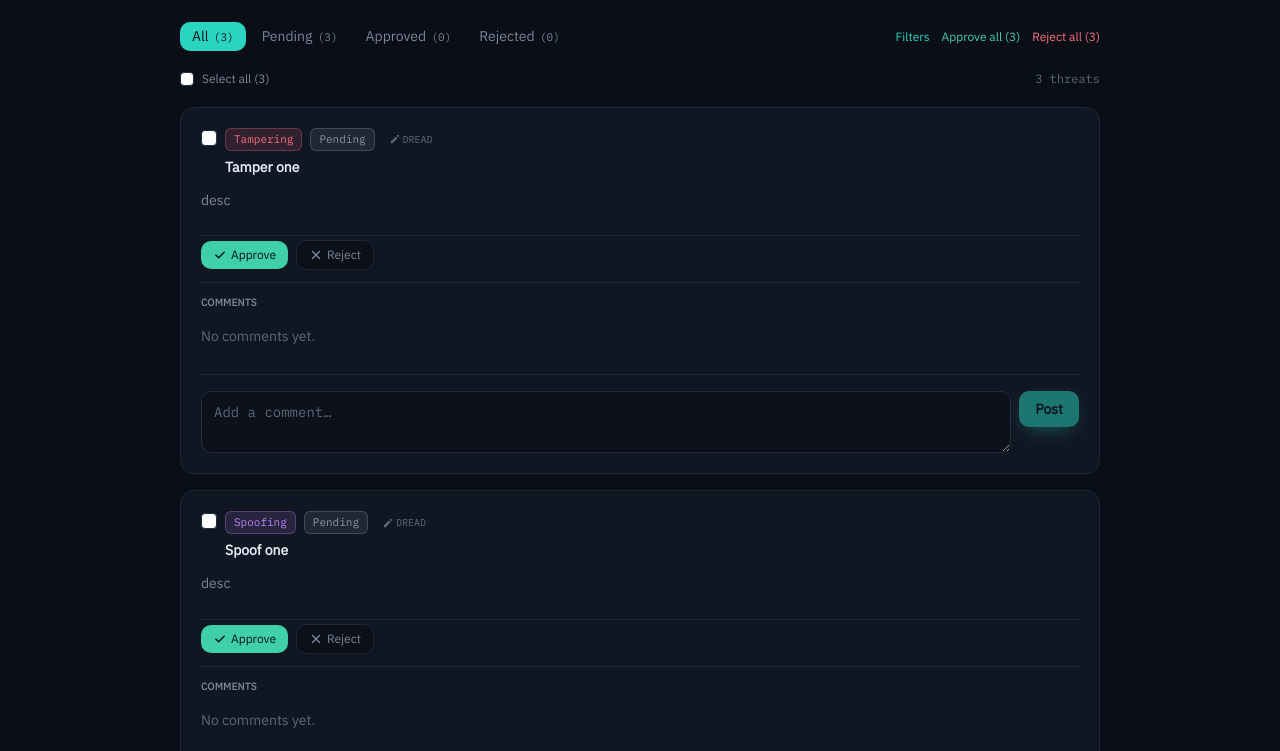
Test: Review — category filter › deselecting the last category restores all threats
The width and height of the screenshot is (1280, 751).
Check: the heading "Tamper one" is shown, box [225, 158, 300, 176]
Click the button "Filters".
click(913, 36)  # box [896, 28, 930, 44]
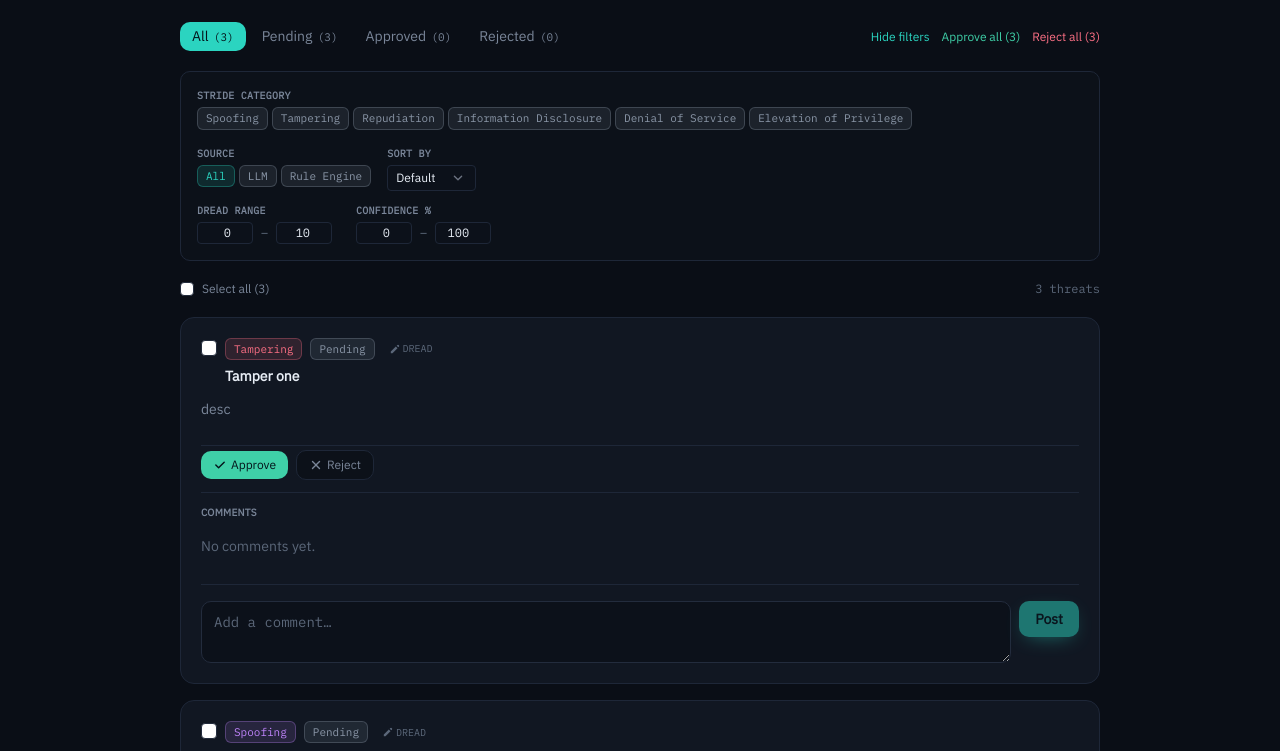
Click the button "Tampering".
click(310, 118)  # box [272, 107, 349, 130]
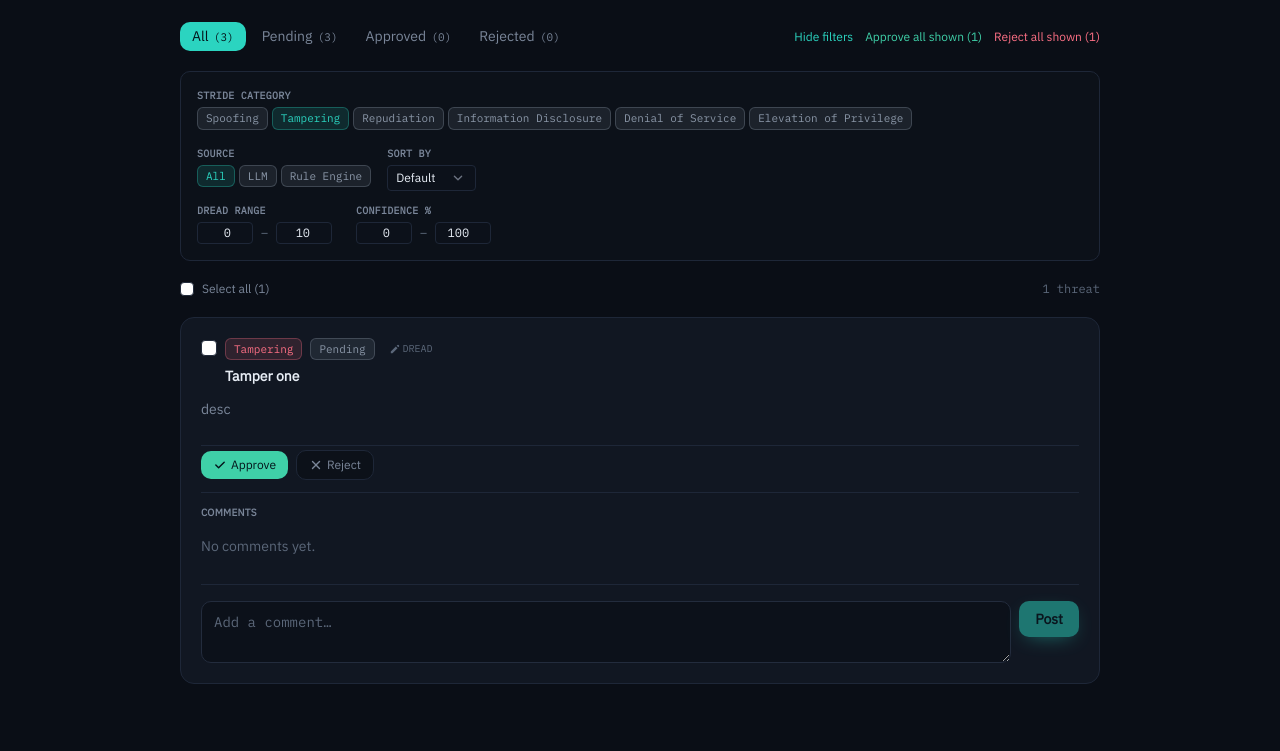
Check: the heading "Spoof one" is not shown
Click the button "Tampering".
click(310, 118)  # box [272, 107, 349, 130]
(page scrolled)
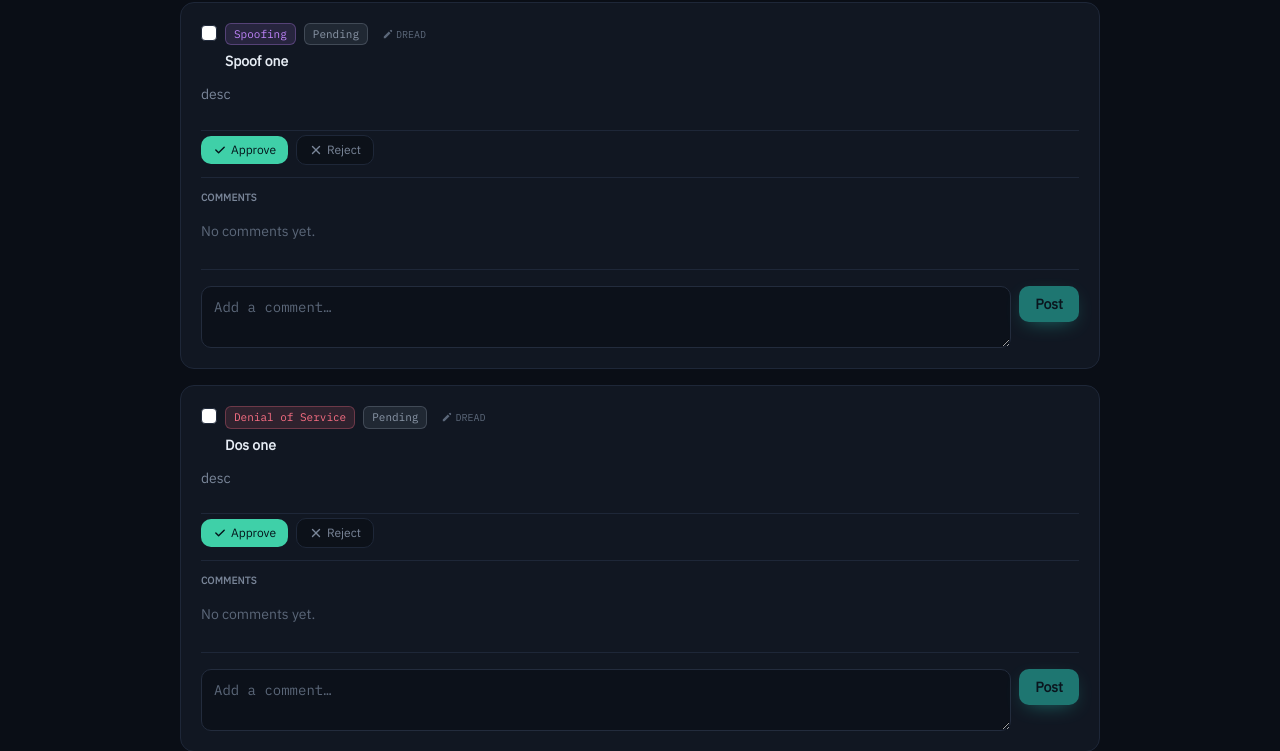
Check: the heading "Spoof one" is shown, box [225, 52, 288, 70]
Check: the heading "Dos one" is shown, box [225, 436, 276, 454]
